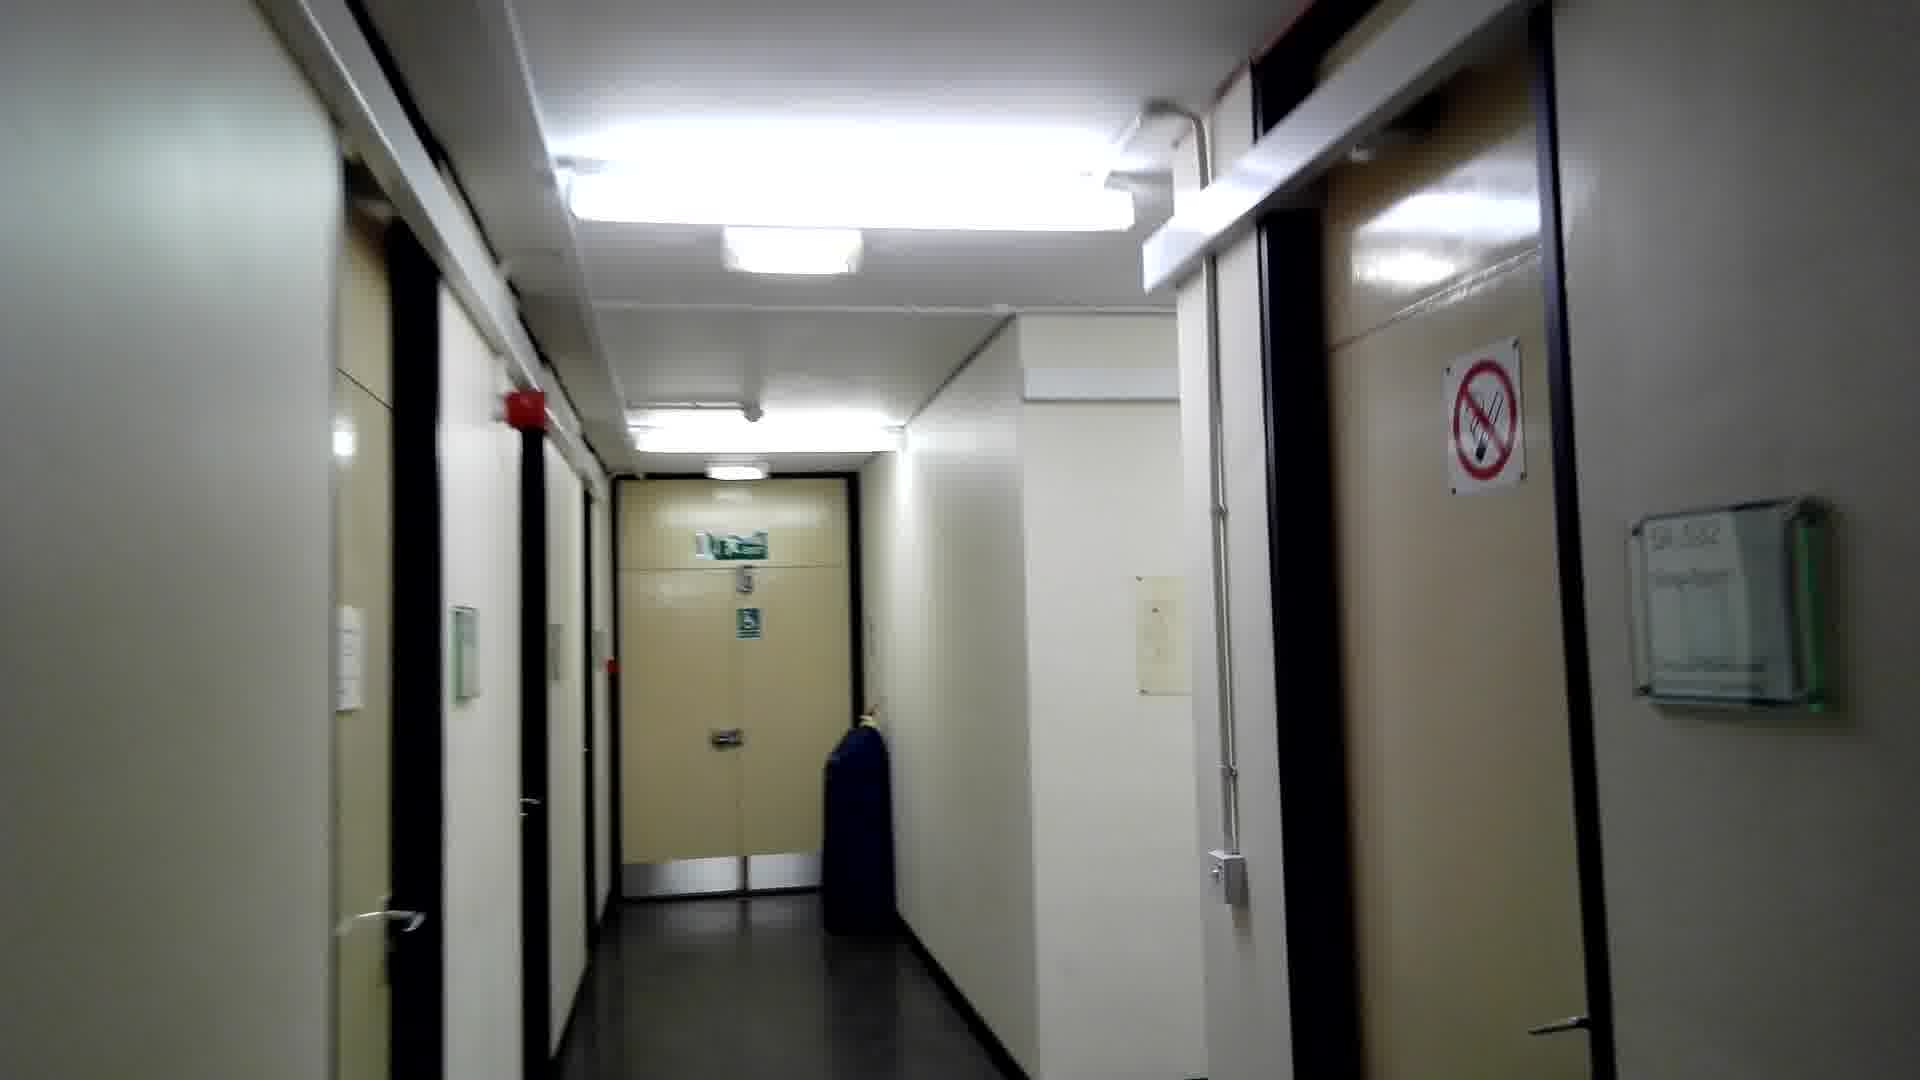Bin: (816, 720, 905, 915)
Door: (1236, 32, 1625, 1080), (315, 191, 448, 1080)
